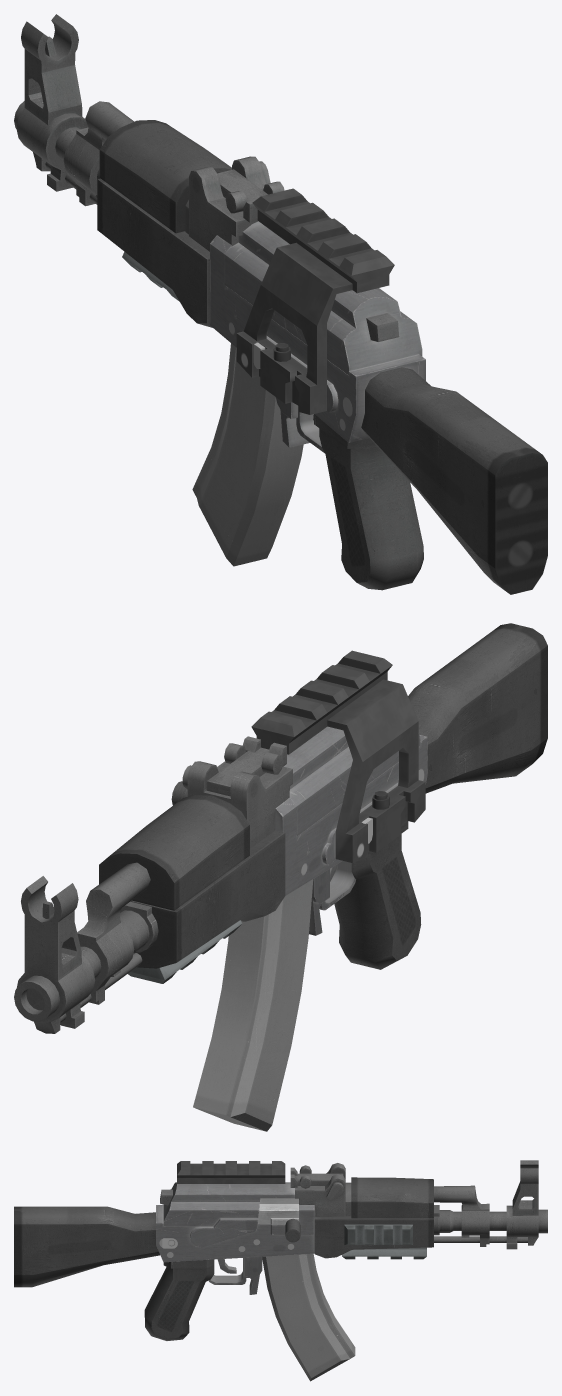
The model's file is IG_Gun_AK103.fbx.
3 renders of one model, top to bottom at view 1: azimuth 30°, elevation 25°; view 2: azimuth 150°, elevation 25°; view 3: azimuth 270°, elevation 25°, orthographic. The views are drawn at different scales.
Visible parts, largest first — view 1: WPN_AK103, HideIf_Stock, ShowIf_Scope; view 2: WPN_AK103, HideIf_Stock, ShowIf_Scope, HideIf_Grip; view 3: WPN_AK103, HideIf_Stock, ShowIf_Scope, ShowIf_Tec, HideIf_Grip.
Boxes of the visible parts, box(x1,y1,x2,y2) form: WPN_AK103: box(14, 14, 425, 590); HideIf_Stock: box(361, 367, 547, 594); ShowIf_Scope: box(236, 188, 394, 414); WPN_AK103: box(14, 726, 427, 1131); HideIf_Stock: box(408, 623, 547, 793); ShowIf_Scope: box(251, 650, 425, 862); HideIf_Grip: box(128, 920, 242, 983); WPN_AK103: box(144, 1160, 547, 1381); HideIf_Stock: box(14, 1206, 159, 1287); ShowIf_Scope: box(177, 1161, 285, 1183); ShowIf_Tec: box(344, 1224, 412, 1244); HideIf_Grip: box(342, 1247, 426, 1259).
Bounding box in the file's own units: 0.1812 × 0.4621 × 1.05.
